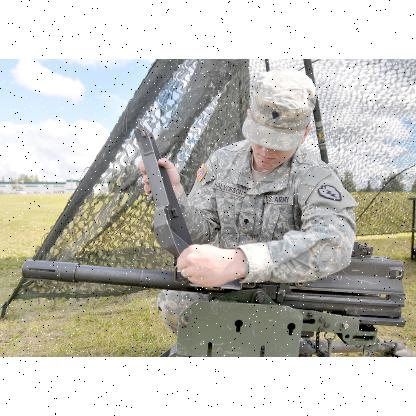gun: (26, 164, 382, 344)
